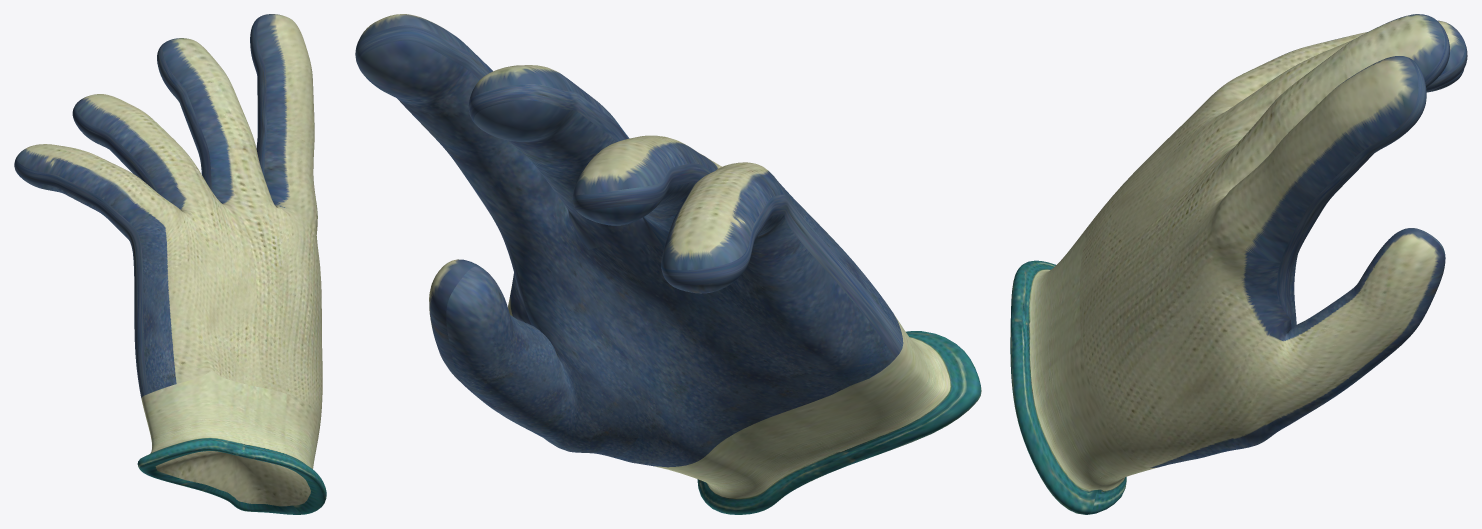
Rendered from glove_d.fbx.
3 renders of one model, left to right at view 1: azimuth 30°, elevation 25°; view 2: azimuth 150°, elevation 25°; view 3: azimuth 270°, elevation 25°, orthographic. The views are drawn at different scales.
Parts seen in each view (by area): view 1: 10139_GardeningGloves_v1_L3; view 2: 10139_GardeningGloves_v1_L3; view 3: 10139_GardeningGloves_v1_L3.
Part boxes in pixels (left/top/right/bottom): 10139_GardeningGloves_v1_L3: left=14, top=14, right=326, bottom=514; 10139_GardeningGloves_v1_L3: left=355, top=14, right=981, bottom=514; 10139_GardeningGloves_v1_L3: left=1010, top=14, right=1467, bottom=514.
Bounding box in the file's own units: 1081 × 1390 × 1122.
1 material, 1 textured.
